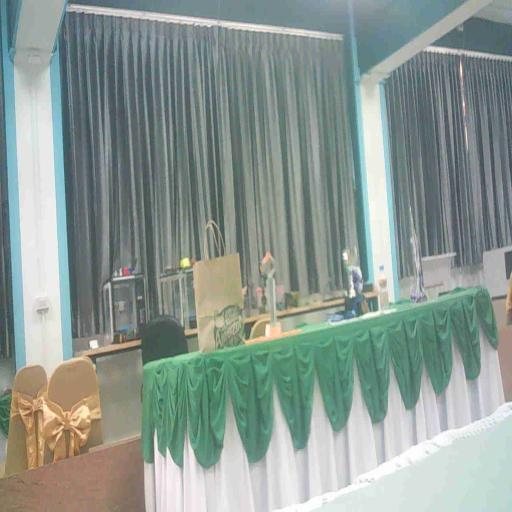bag: (187, 234, 250, 367)
